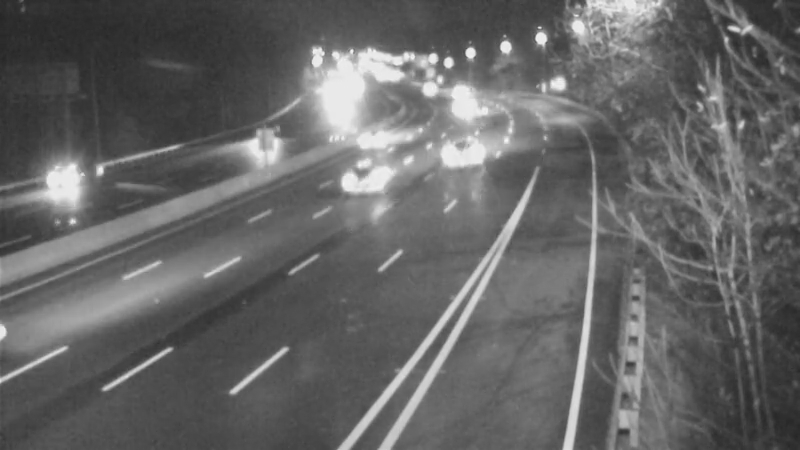vehicle: (419, 120, 499, 200), (339, 131, 419, 211), (23, 138, 103, 218), (435, 64, 485, 114), (397, 64, 447, 114), (432, 78, 482, 128), (454, 88, 504, 138), (348, 113, 398, 163), (249, 105, 299, 155)
